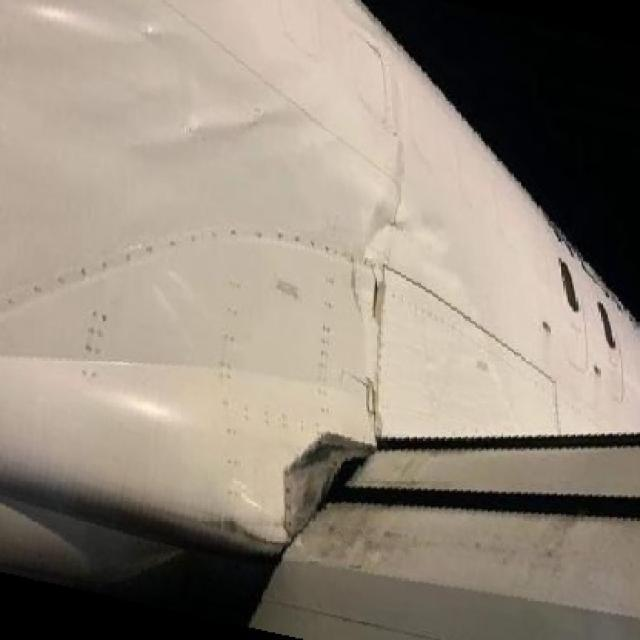dent: (160, 29, 304, 162), (361, 200, 455, 266), (93, 371, 181, 426), (30, 3, 141, 43), (154, 266, 203, 346), (360, 258, 389, 343)
